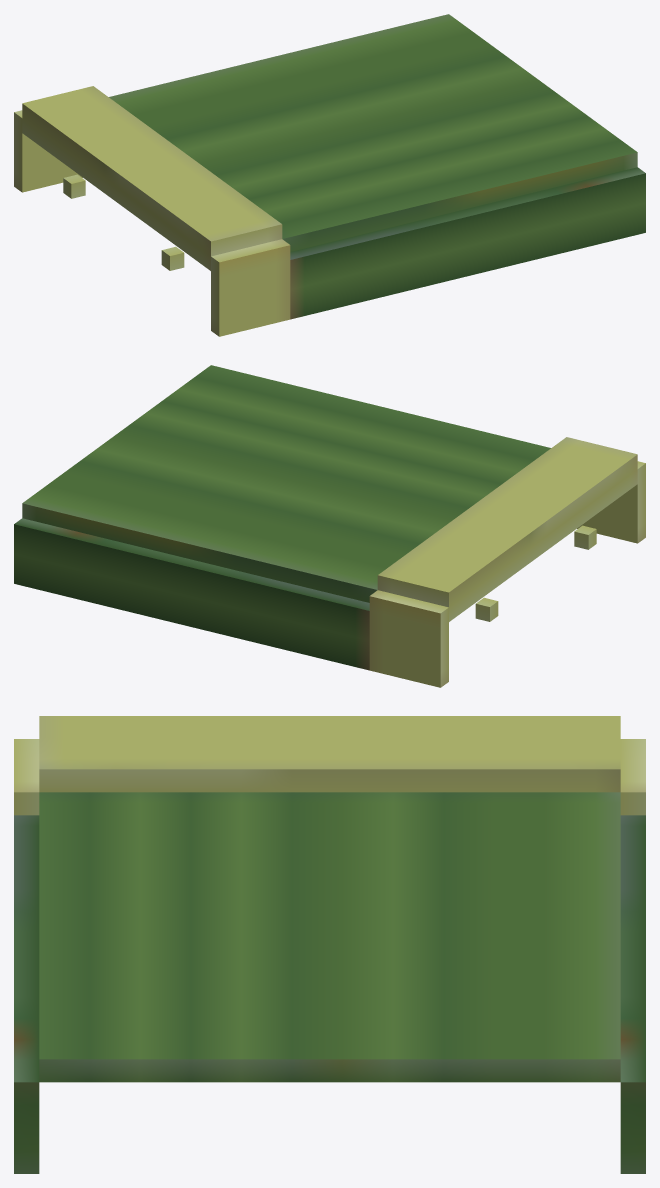
The model's file is BlanketGreen_00.fbx.
3 renders of one model, top to bottom at view 1: azimuth 30°, elevation 25°; view 2: azimuth 150°, elevation 25°; view 3: azimuth 270°, elevation 25°, orthographic. The views are drawn at different scales.
Parts seen in each view (by area): view 1: BlanketGreen_00; view 2: BlanketGreen_00; view 3: BlanketGreen_00.
Part boxes in pixels (<box>): BlanketGreen_00: <box>14,14,645,336</box>; BlanketGreen_00: <box>14,365,645,687</box>; BlanketGreen_00: <box>14,716,645,1173</box>.
Bounding box in the file's own units: 150 × 125 × 30.
Materials: 1 (1 with a texture image).
